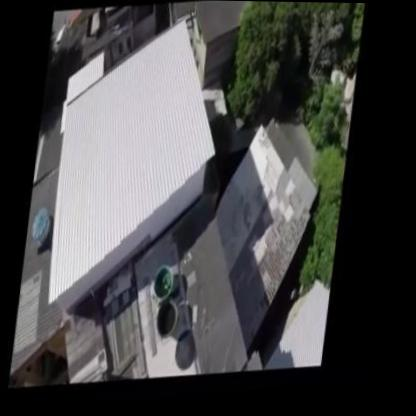agua: (160, 303, 186, 344), (159, 270, 183, 306)
